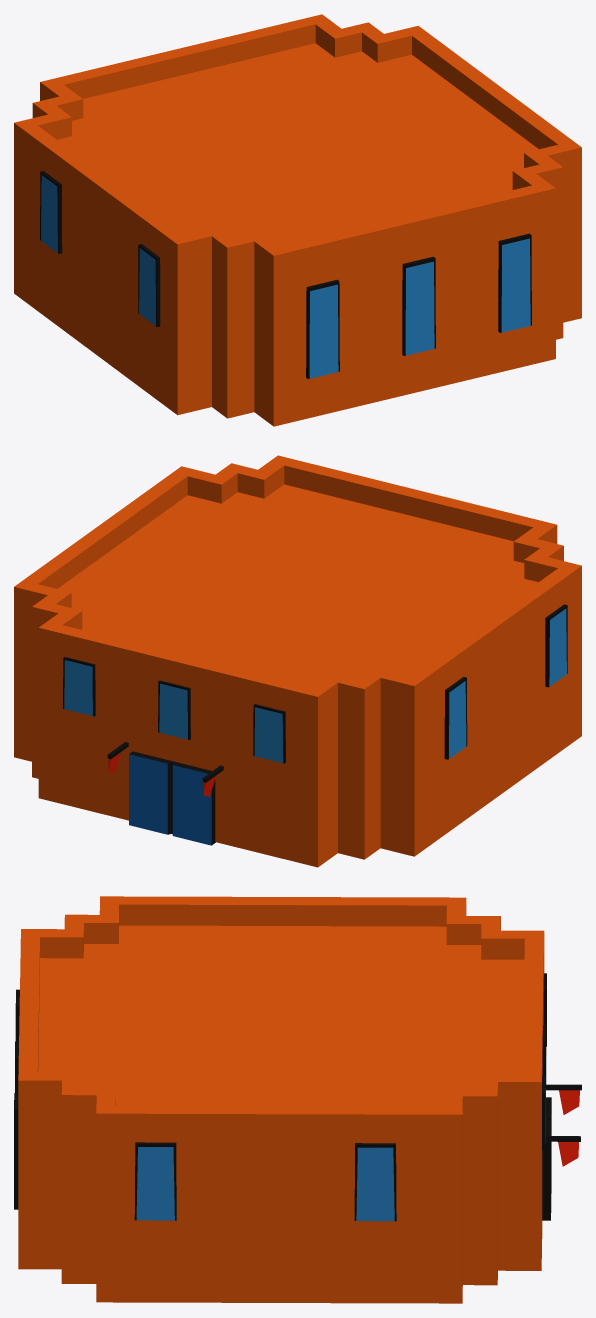
File: Shop1_orange.FBX
3 renders of one model, top to bottom at view 1: azimuth 30°, elevation 25°; view 2: azimuth 150°, elevation 25°; view 3: azimuth 270°, elevation 25°, orthographic. The views are drawn at different scales.
Visible parts, largest first — view 1: Shop1_pink; view 2: Shop1_pink; view 3: Shop1_pink.
Boxes of the visible parts, x1,y1,x2,y2 form: Shop1_pink: (14, 14, 581, 426); Shop1_pink: (14, 455, 581, 867); Shop1_pink: (14, 896, 581, 1303).
Size of the model in its own units: 770 by 833 by 307.
